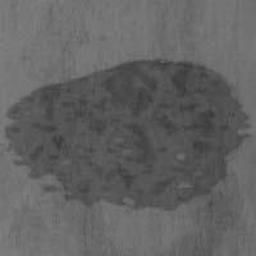Oil spot: (3, 54, 255, 214)
